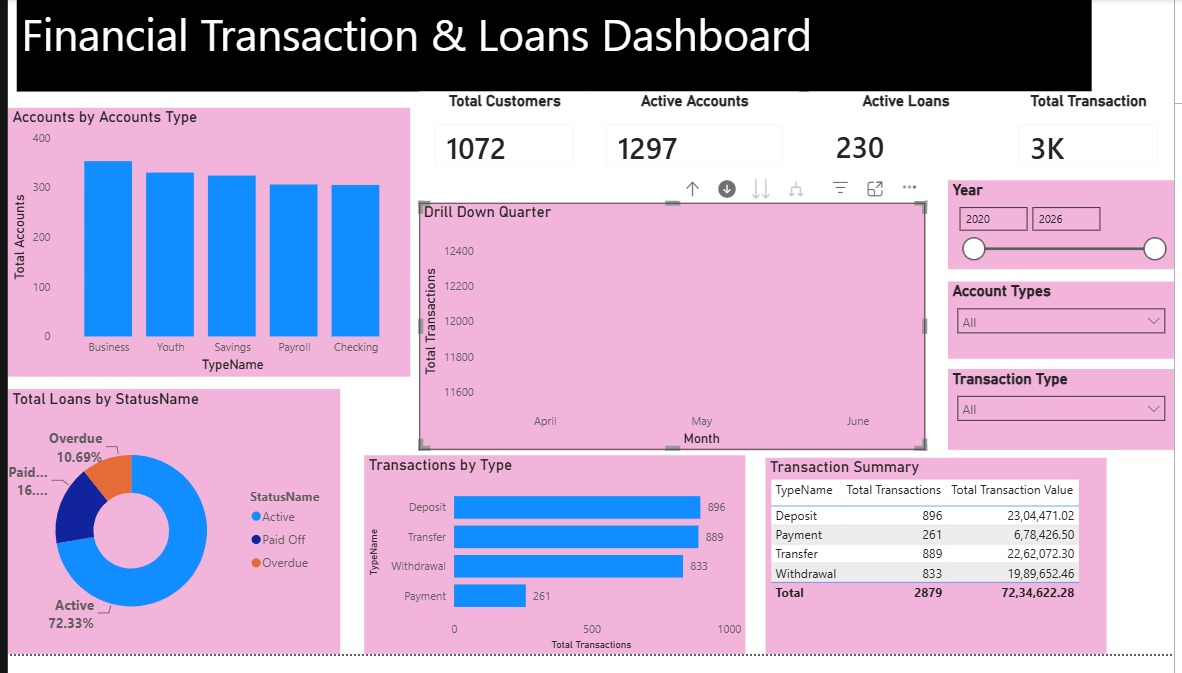

The page's visual inventory and layout, read from the dashboard file:
{"tool":"powerbi","page":{"name":"Financial overview","canvas":[1280,720],"ordinal":1},"visuals":[{"type":"textbox","box":[9.6,0,1180.1,101.5],"z":0},{"type":"cardVisual","title":"Total Customers","fields":{"Data":["Customers.Total Customers"]},"box":[451.5,101.5,188,97.4],"z":1000},{"type":"cardVisual","title":"Total Transaction","fields":{"Data":["Transactions.Total Transactions"]},"box":[1092.3,101.5,188,97.4],"z":2000},{"type":"cardVisual","title":"Active Accounts","fields":{"Data":["Accounts.Active Accounts"]},"box":[639.5,101.5,229.2,97.4],"z":3000},{"type":"cardVisual","title":"Active Loans","fields":{"Data":["Loans.Active Loans"]},"box":[879.6,101.5,212.7,97.4],"z":4000},{"type":"clusteredColumnChart","title":" Accounts by Accounts Type","fields":{"Category":["Account Types.TypeName"],"Y":["Accounts.Total Accounts"]},"box":[0,119.4,441.9,295],"z":5000},{"type":"lineChart","title":"Transaction By Type","fields":{"Y":["Transactions.Total Transactions"],"Category":["Transactions.TransactionDate.Variation.Date Hierarchy.Year","Transactions.TransactionDate.Variation.Date Hierarchy.Quarter","Transactions.TransactionDate.Variation.Date Hierarchy.Month"]},"box":[451.5,223.7,555.7,271.7],"z":6000},{"type":"donutChart","fields":{"Category":["Loan statuses.StatusName"],"Y":["Loans.Total Loans"]},"box":[0,428.1,365,292.3],"z":7000},{"type":"clusteredBarChart","title":"Transactions by Type","fields":{"Category":["Transaction Types.TypeName"],"Y":["Transactions.Total Transactions"]},"box":[391.1,500.9,418.5,219.6],"z":8000},{"type":"tableEx","title":"Transaction Summary","fields":{"Values":["Transaction Types.TypeName","Transactions.Total Transactions","Transactions.Total Transaction Value"]},"box":[831.6,503.6,374.6,216.8],"z":9000},{"type":"slicer","title":"Year","fields":{"Values":["Transactions.Year"]},"box":[1031.9,199,248.4,97.4],"z":10000},{"type":"slicer","title":"Account Types","fields":{"Values":["Account Types.TypeName"]},"box":[1031.9,310.1,248.4,85.1],"z":11000},{"type":"slicer","title":"Transaction Type","fields":{"Values":["Transaction Types.TypeName"]},"box":[1031.9,406.2,248.4,89.2],"z":12000}]}

Visuals, with their boxes in screenshot pixels (x1, y1, x2, y2), scaled from the page's 1280x720 canvas onto the 1182x673 screenshot:
textbox: 9/0/1099/95
"Total Customers" cardVisual: 417/95/591/186
"Total Transaction" cardVisual: 1009/95/1181/186
"Active Accounts" cardVisual: 591/95/802/186
"Active Loans" cardVisual: 812/95/1009/186
" Accounts by Accounts Type" clusteredColumnChart: 0/112/408/387
"Transaction By Type" lineChart: 417/209/930/463
donutChart - Loan statuses.StatusName x Loans.Total Loans: 0/400/337/672
"Transactions by Type" clusteredBarChart: 361/468/748/672
"Transaction Summary" tableEx: 768/471/1114/672
"Year" slicer: 953/186/1181/277
"Account Types" slicer: 953/290/1181/369
"Transaction Type" slicer: 953/380/1181/463
